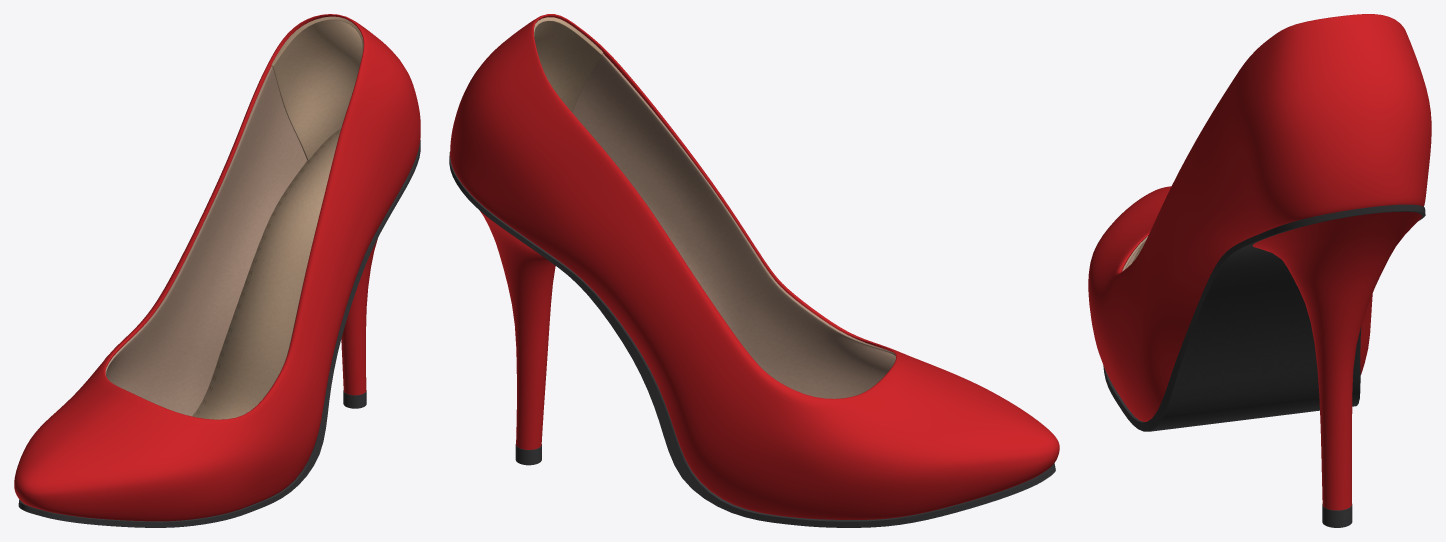
The model's file is shoe.glb.
The picture shows the model from 3 angles, left to right: view 1: azimuth 30°, elevation 25°; view 2: azimuth 150°, elevation 25°; view 3: azimuth 270°, elevation 25°; orthographic projection. The views are drawn at different scales.
Parts seen in each view (by area): view 1: lambert1; view 2: lambert1; view 3: lambert1.
Boxes of the visible parts, bbox=[...] form: lambert1: bbox=[14, 14, 420, 527]; lambert1: bbox=[449, 14, 1059, 527]; lambert1: bbox=[1088, 14, 1431, 527].
Bounding box in the file's own units: 1.64 × 1.33 × 0.8262.
1 material, 1 textured.
